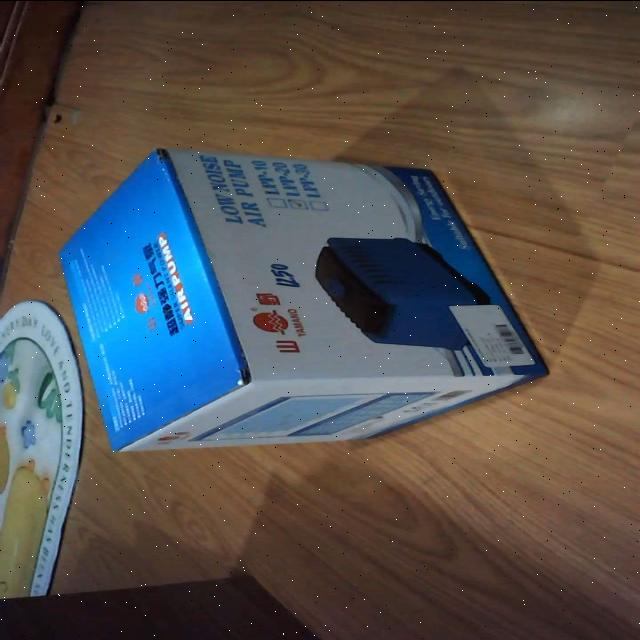YAMANO_LPP_20: (44, 141, 562, 460)
